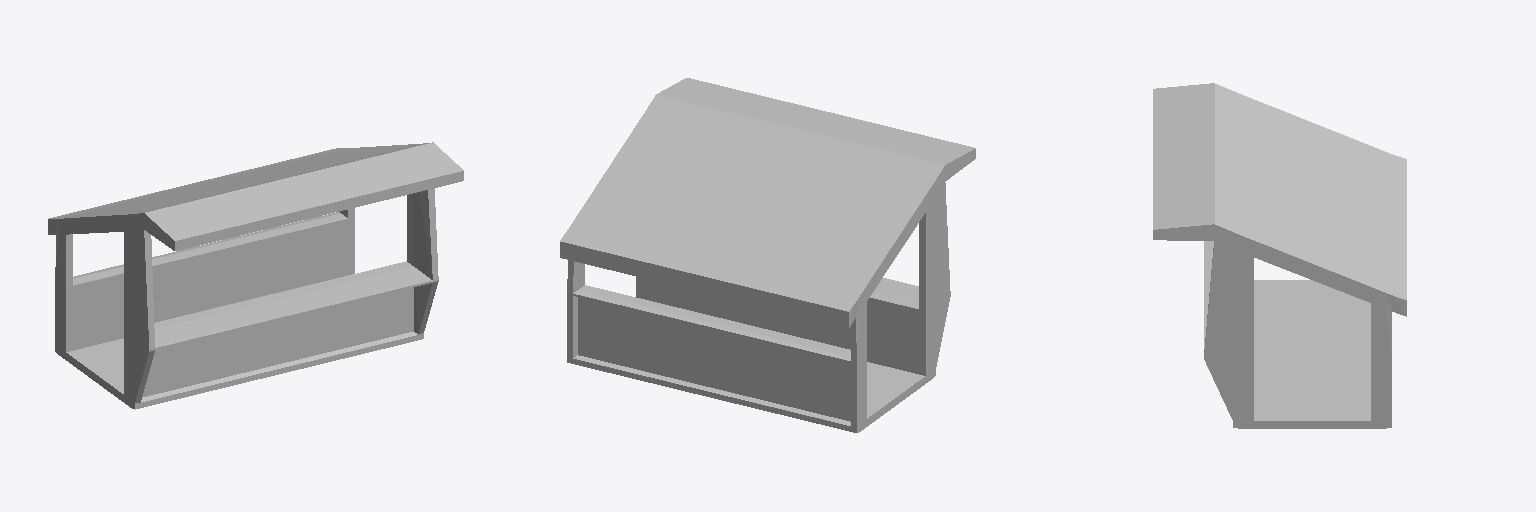
The model's file is Cabana.obj.
3 views of the same model, side by side, from view 1: azimuth 30°, elevation 25°; view 2: azimuth 150°, elevation 25°; view 3: azimuth 270°, elevation 25° (orthographic).
Visible parts, largest first — view 1: modulo; view 2: modulo; view 3: modulo.
Part boxes in pixels (left/top/right/bottom): modulo: left=48, top=142, right=463, bottom=409; modulo: left=560, top=78, right=975, bottom=432; modulo: left=1153, top=83, right=1406, bottom=428.
Bounding box in the file's own units: 24.12 × 16.3 × 18.39.